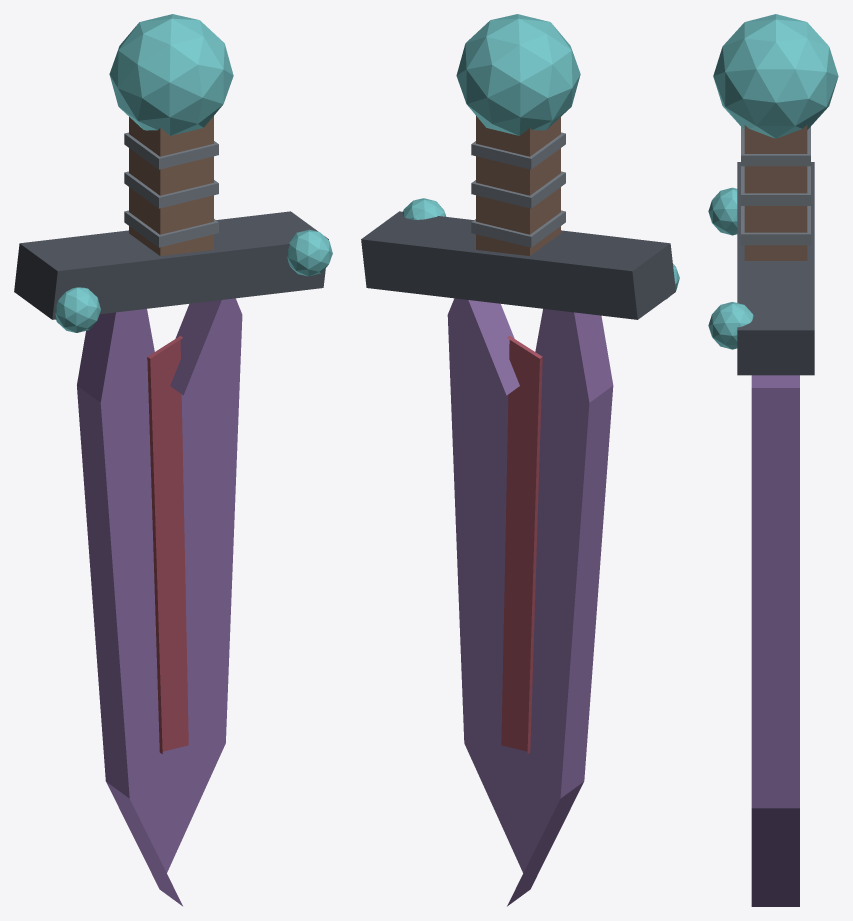
The model's file is weapon_nightfang.glb.
3 renders of one model, left to right at view 1: azimuth 30°, elevation 25°; view 2: azimuth 150°, elevation 25°; view 3: azimuth 270°, elevation 25°, orthographic.
Parts seen in each view (by area): view 1: nightfang_blade, dark_guard, blood_groove, soul_pommel, wrapped_grip, guard_rune_1, guard_rune, binding, binding_1, binding_2; view 2: nightfang_blade, dark_guard, blood_groove, soul_pommel, wrapped_grip, binding_1, binding, binding_2, guard_rune_1; view 3: nightfang_blade, soul_pommel, dark_guard, wrapped_grip, guard_rune_1, binding, guard_rune, binding_1, binding_2.
Part boxes in pixels (left/top/right/bottom): nightfang_blade: left=77, top=298, right=242, bottom=906; dark_guard: left=14, top=211, right=328, bottom=319; blood_groove: left=147, top=336, right=188, bottom=753; soul_pommel: left=109, top=14, right=233, bottom=135; wrapped_grip: left=129, top=116, right=213, bottom=255; guard_rune_1: left=287, top=229, right=332, bottom=276; guard_rune: left=55, top=287, right=100, bottom=332; binding: left=124, top=210, right=218, bottom=247; binding_1: left=124, top=171, right=218, bottom=208; binding_2: left=124, top=132, right=218, bottom=169; nightfang_blade: left=447, top=298, right=613, bottom=906; dark_guard: left=361, top=211, right=675, bottom=319; blood_groove: left=501, top=336, right=542, bottom=754; soul_pommel: left=456, top=14, right=580, bottom=135; wrapped_grip: left=476, top=116, right=560, bottom=255; binding_1: left=471, top=171, right=565, bottom=208; binding: left=471, top=210, right=565, bottom=247; binding_2: left=471, top=132, right=565, bottom=169; guard_rune_1: left=402, top=198, right=446, bottom=219; nightfang_blade: left=751, top=375, right=799, bottom=906; soul_pommel: left=713, top=14, right=838, bottom=138; dark_guard: left=737, top=162, right=814, bottom=375; wrapped_grip: left=744, top=125, right=807, bottom=260; guard_rune_1: left=708, top=302, right=753, bottom=349; binding: left=741, top=206, right=810, bottom=245; guard_rune: left=708, top=187, right=737, bottom=235; binding_1: left=741, top=166, right=810, bottom=205; binding_2: left=741, top=127, right=810, bottom=166.
Size of the model in its own units: 0.6684 by 2.03 by 0.27.
